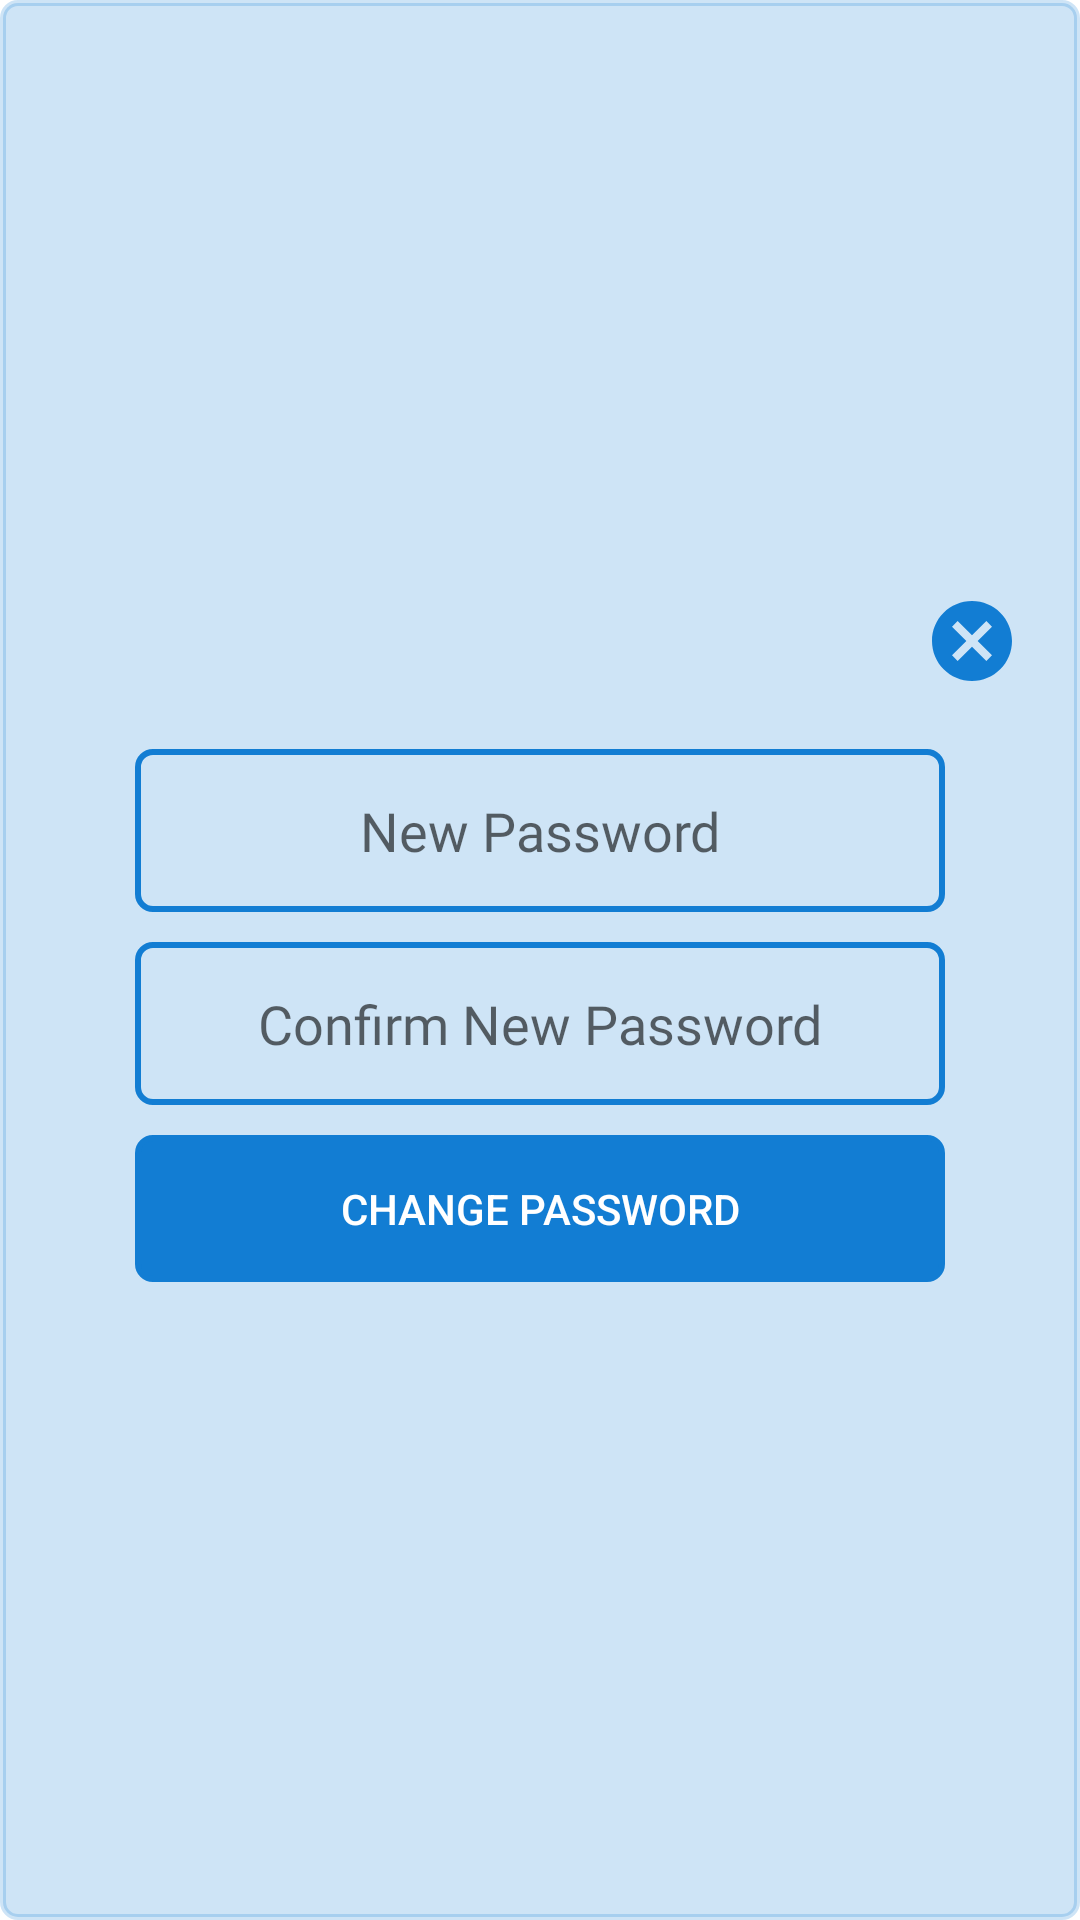

Where icons sit on this 1080x1920 app screen, as (x1, y1, x2, y2):
cancel: (932, 601, 1012, 681)
